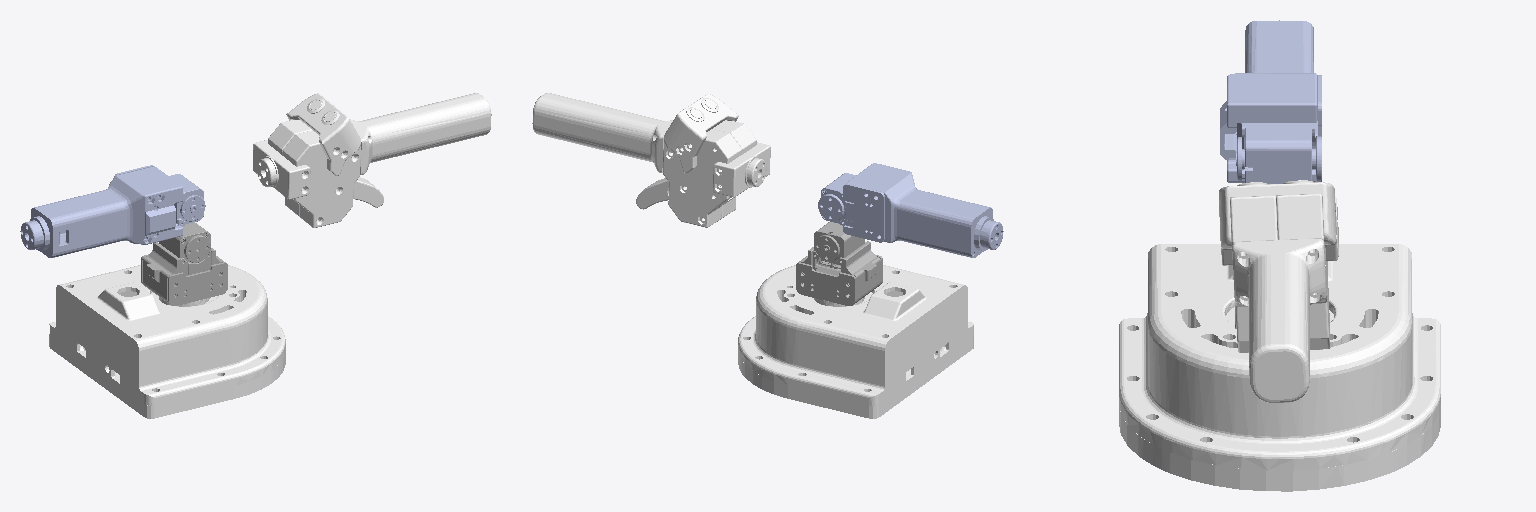
URDF robot description (Alicia-duo):
<?xml version="1.0" encoding="utf-8"?>
<!-- This URDF was automatically created by SolidWorks to URDF Exporter! Originally created by Stephen Brawner (brawner@gmail.com) 
     Commit Version: 1.6.0-4-g7f85cfe  Build Version: 1.6.7995.38578
     For more information, please see http://wiki.ros.org/sw_urdf_exporter -->
<robot
  name="Alicia-duo">
<mujoco>
     <compiler meshdir="../meshes/" balanceinertia="true" discardvisual="false" />
    <contact>
      <exclude body1="base_link" body2="Link1"/>
      <exclude body1="Link1" body2="Link2"/>
      <exclude body1="Link2" body2="Link3"/>
      <exclude body1="Link3" body2="Link4"/>
      <exclude body1="Link4" body2="Link5"/>
      <exclude body1="Link5" body2="Link6"/>
      <exclude body1="Link6" body2="left_gripper"/>
      <exclude body1="left_gripper" body2="right_gripper"/>
    </contact>
  </mujoco>
  <link
    name="base_link">
    <inertial>
      <origin
        xyz="-0.00913315135656602 -8.29769430045653E-08 0.00714819712066002"
        rpy="0 0 0" />
      <mass
        value="0.682998590998489" />
      <inertia
        ixx="0.00109711072720949"
        ixy="-9.02251938552973E-08"
        ixz="2.39012376989211E-06"
        iyy="0.00097011289851882"
        iyz="-4.52080895361524E-08"
        izz="0.00177900701506993" />
    </inertial>
    <visual>
      <origin
        xyz="0 0 0"
        rpy="0 0 0" />
      <geometry>
        <mesh
          filename="../meshes/base_link.STL" />
      </geometry>
      <material
        name="">
        <color
          rgba="1 1 1 1" />
      </material>
    </visual>
    <collision>
      <origin
        xyz="0 0 0"
        rpy="0 0 0" />
      <geometry>
        <mesh
          filename="../meshes/base_link.STL" />
      </geometry>
    </collision>
  </link>
  <link
    name="link1">
    <inertial>
      <origin
        xyz="-0.000165250533716745 0.000294723490992807 0.0256606561350664"
        rpy="0 0 0" />
      <mass
        value="0.0457400706155227" />
      <inertia
        ixx="6.39646368672777E-06"
        ixy="-1.59467850185652E-10"
        ixz="-1.11495374358954E-07"
        iyy="1.3093963409852E-05"
        iyz="-1.81543491158685E-08"
        izz="1.1302555745486E-05" />
    </inertial>
    <visual>
      <origin
        xyz="0 0 0"
        rpy="0 0 0" />
      <geometry>
        <mesh
          filename="../meshes/link1.STL" />
      </geometry>
      <material
        name="">
        <color
          rgba="0.752941176470588 0.752941176470588 0.752941176470588 1" />
      </material>
    </visual>
    <collision>
      <origin
        xyz="0 0 0"
        rpy="0 0 0" />
      <geometry>
        <mesh
          filename="../meshes/link1.STL" />
      </geometry>
    </collision>
  </link>
  <joint
    name="joint1"
    type="revolute">
    <origin
      xyz="0 0 0.0448"
      rpy="0 0 0" />
    <parent
      link="base_link" />
    <child
      link="link1" />
    <axis
      xyz="0 0 1" />
    <limit
      lower="-2.79"
      upper="2.79"
      effort="5"
      velocity="10" />
  </joint>
  <link
    name="link2">
    <inertial>
      <origin
        xyz="-0.103773680530033 0.0113197407733537 4.83453470752479E-05"
        rpy="0 0 0" />
      <mass
        value="0.153069147969342" />
      <inertia
        ixx="3.02229476353057E-05"
        ixy="-1.00868386138349E-05"
        ixz="-2.70406435965192E-07"
        iyy="0.00013714214812812"
        iyz="3.74800642989473E-08"
        izz="0.000130999000029003" />
    </inertial>
    <visual>
      <origin
        xyz="0 0 0"
        rpy="0 0 0" />
      <geometry>
        <mesh
          filename="../meshes/link2.STL" />
      </geometry>
      <material
        name="">
        <color
          rgba="1 1 1 1" />
      </material>
    </visual>
    <collision>
      <origin
        xyz="0 0 0"
        rpy="0 0 0" />
      <geometry>
        <mesh
          filename="../meshes/link2.STL" />
      </geometry>
    </collision>
  </link>
  <joint
    name="joint2"
    type="revolute">
    <origin
      xyz="0 -0.0009 0.04841"
      rpy="1.5708 -0.088115 0" />
    <parent
      link="link1" />
    <child
      link="link2" />
    <axis
      xyz="0 0 1" />
    <limit
      lower="-3.14"
      upper="0"
      effort="5"
      velocity="10" />
  </joint>
  <link
    name="link3">
    <inertial>
      <origin
        xyz="0.0390003673677388 0.0124322919844845 -0.00041569336607751"
        rpy="0 0 0" />
      <mass
        value="0.0756083267095565" />
      <inertia
        ixx="3.87102382675241E-05"
        ixy="3.8871912388848E-06"
        ixz="3.49766838263813E-08"
        iyy="3.03825251423509E-05"
        iyz="-8.52384202321276E-08"
        izz="2.72834494262571E-05" />
    </inertial>
    <visual>
      <origin
        xyz="0 0 0"
        rpy="0 0 0" />
      <geometry>
        <mesh
          filename="../meshes/link3.STL" />
      </geometry>
      <material
        name="">
        <color
          rgba="0.792156862745098 0.819607843137255 0.933333333333333 1" />
      </material>
    </visual>
    <collision>
      <origin
        xyz="0 0 0"
        rpy="0 0 0" />
      <geometry>
        <mesh
          filename="../meshes/link3.STL" />
      </geometry>
    </collision>
  </link>
  <joint
    name="joint3"
    type="revolute">
    <origin
      xyz="-0.18612 0.044304 -0.0003"
      rpy="0 0 -0.059975" />
    <parent
      link="link2" />
    <child
      link="link3" />
    <axis
      xyz="0 0 1" />
    <limit
      lower="0"
      upper="3.14"
      effort="5"
      velocity="10" />
  </joint>
  <link
    name="link4">
    <inertial>
      <origin
        xyz="-0.0019189309703144 -0.000636510604235894 0.0635793909198235"
        rpy="0 0 0" />
      <mass
        value="0.0748379713334714" />
      <inertia
        ixx="6.78363620939979E-05"
        ixy="1.03491538669538E-07"
        ixz="-4.20997767807717E-06"
        iyy="6.95121958460117E-05"
        iyz="-4.04966135165966E-06"
        izz="1.71012948571419E-05" />
    </inertial>
    <visual>
      <origin
        xyz="0 0 0"
        rpy="0 0 0" />
      <geometry>
        <mesh
          filename="../meshes/link4.STL" />
      </geometry>
      <material
        name="">
        <color
          rgba="0.792156862745098 0.819607843137255 0.933333333333333 1" />
      </material>
    </visual>
    <collision>
      <origin
        xyz="0 0 0"
        rpy="0 0 0" />
      <geometry>
        <mesh
          filename="../meshes/link4.STL" />
      </geometry>
    </collision>
  </link>
  <joint
    name="joint4"
    type="revolute">
    <origin
      xyz="0.071381 0.0018862 -0.0005"
      rpy="-1.5708 0 -1.5989" />
    <parent
      link="link3" />
    <child
      link="link4" />
    <axis
      xyz="0 0 1" />
    <limit
      lower="-2.79"
      upper="2.79"
      effort="5"
      velocity="10" />
  </joint>
  <link
    name="link5">
    <inertial>
      <origin
        xyz="0.0391036461703184 0.0134837376274576 0.00113059605324647"
        rpy="0 0 0" />
      <mass
        value="0.075608308116058" />
      <inertia
        ixx="3.89222979976558E-05"
        ixy="3.65481382151274E-06"
        ixz="4.57369208630412E-07"
        iyy="3.01141083112501E-05"
        iyz="-4.0790066980058E-07"
        izz="2.73398069296069E-05" />
    </inertial>
    <visual>
      <origin
        xyz="0 0 0"
        rpy="0 0 0" />
      <geometry>
        <mesh
          filename="../meshes/link5.STL" />
      </geometry>
      <material
        name="">
        <color
          rgba="0.752941176470588 0.752941176470588 0.752941176470588 1" />
      </material>
    </visual>
    <collision>
      <origin
        xyz="0 0 0"
        rpy="0 0 0" />
      <geometry>
        <mesh
          filename="../meshes/link5.STL" />
      </geometry>
    </collision>
  </link>
  <joint
    name="joint5"
    type="revolute">
    <origin
      xyz="-0.00014 -0.0001 0.11461"
      rpy="0.29064 -1.5708 1.212" />
    <parent
      link="link4" />
    <child
      link="link5" />
    <axis
      xyz="0 -0.1141 -0.99347" />
    <limit
      lower="-1.57"
      upper="1.57"
      effort="5"
      velocity="10" />
  </joint>
  <link
    name="link6">
    <inertial>
      <origin
        xyz="-0.00144333012144159 -0.0170721394992477 0.0684720840128243"
        rpy="0 0 0" />
      <mass
        value="0.163310330375371" />
      <inertia
        ixx="0.000109043248537791"
        ixy="-1.66510830972178E-07"
        ixz="7.25796158073692E-07"
        iyy="0.000120578342857117"
        iyz="-1.87665058084201E-05"
        izz="4.61993636141689E-05" />
    </inertial>
    <visual>
      <origin
        xyz="0 0 0"
        rpy="0 0 0" />
      <geometry>
        <mesh
          filename="../meshes/link6.STL" />
      </geometry>
      <material
        name="">
        <color
          rgba="1 1 1 1" />
      </material>
    </visual>
    <collision>
      <origin
        xyz="0 0 0"
        rpy="0 0 0" />
      <geometry>
        <mesh
          filename="../meshes/link6.STL" />
      </geometry>
    </collision>
  </link>
  <joint
    name="joint6"
    type="revolute">
    <origin
      xyz="0.0713 0.0039254 -5.2447E-05"
      rpy="-1.8067 0.11662 -1.5708" />
    <parent
      link="link5" />
    <child
      link="link6" />
    <axis
      xyz="0 -0.23368 0.97231" />
    <limit
      lower="-3.14"
      upper="3.14"
      effort="5"
      velocity="10" />
  </joint>
  <link
    name="tool0" />
  <joint
    name="tool0_fixed_joint"
    type="fixed">
    <origin
      xyz="0 0 0"
      rpy="0 0 0" />
    <parent
      link="link6" />
    <child
      link="tool0" />
  </joint>
</robot>

--- Render facts (derived) ---
3 views of the same robot in one strip: view 1: azimuth 30°, elevation 25°; view 2: azimuth 150°, elevation 25°; view 3: azimuth 270°, elevation 25° (orthographic).
Model Alicia-duo with 8 links and 7 joints (6 revolute, 1 fixed), rooted at base_link, posed all joints at 0.
Visible links, largest first — view 1: base_link, link6, link4, link1; view 2: base_link, link6, link4, link1; view 3: base_link, link6, link4.
Link boxes in pixels (box(x1,y1,x2,y2)): base_link: box(49, 265, 285, 418); link6: box(253, 93, 491, 227); link4: box(20, 165, 205, 257); link1: box(141, 222, 227, 305); base_link: box(738, 265, 973, 418); link6: box(532, 93, 770, 227); link4: box(818, 163, 1003, 257); link1: box(796, 222, 882, 305); base_link: box(1119, 244, 1440, 491); link6: box(1219, 180, 1338, 402); link4: box(1220, 20, 1321, 183).
Bounding box of the posed robot: 0.3641 × 0.14 × 0.1701 m (x, y, z).
Meshes: 7 distinct files referenced, 4 mesh visuals loaded (4 binary STL); not drawn: 3 (reference not matched to a file when rendering).
